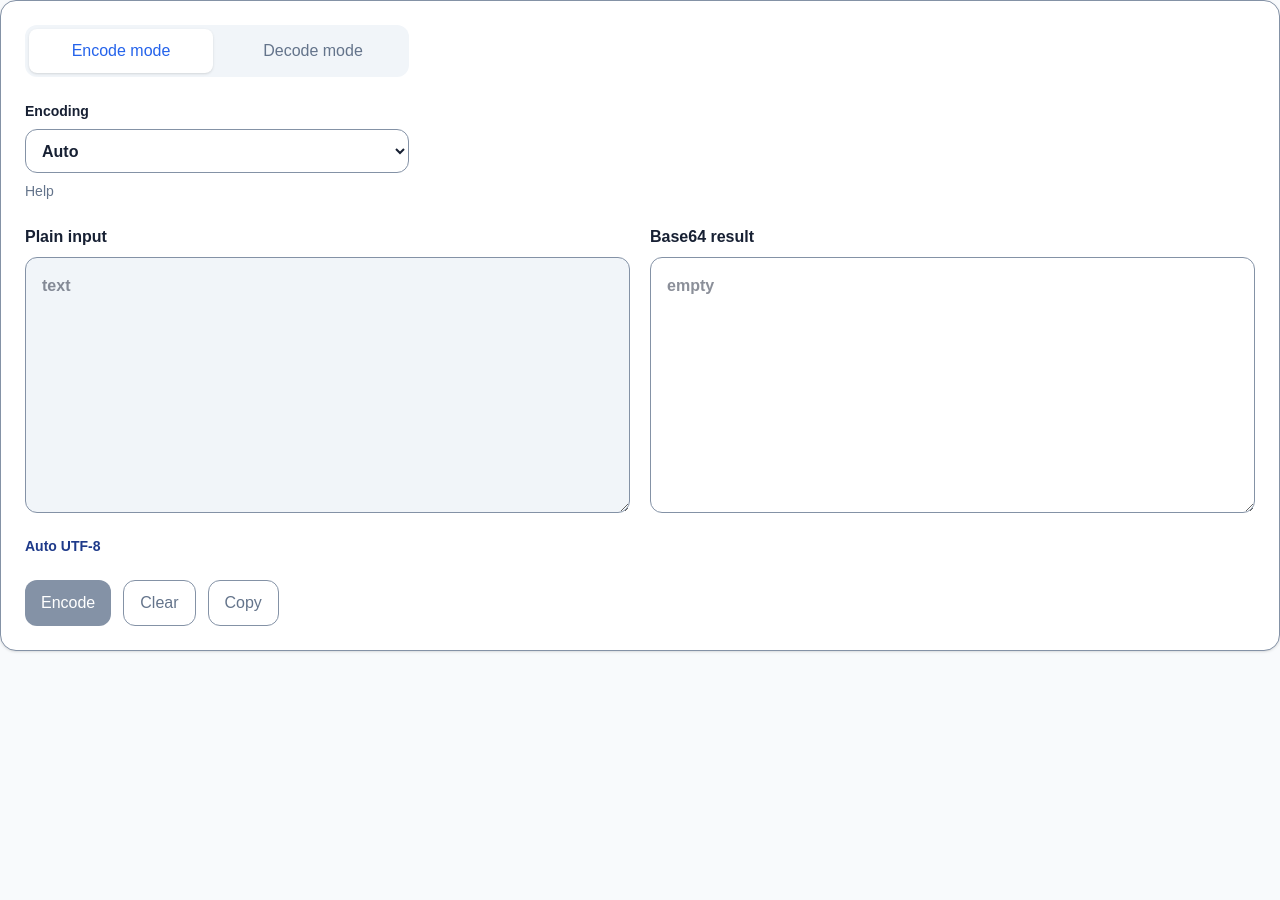
Test: Base64Converter › rejects unrepresentable input and preserves it
This screenshot has width=1280, height=900.
Select "ASCII" in the dropdown labelled "Encoding" at (217,151), box [25,129,409,173]
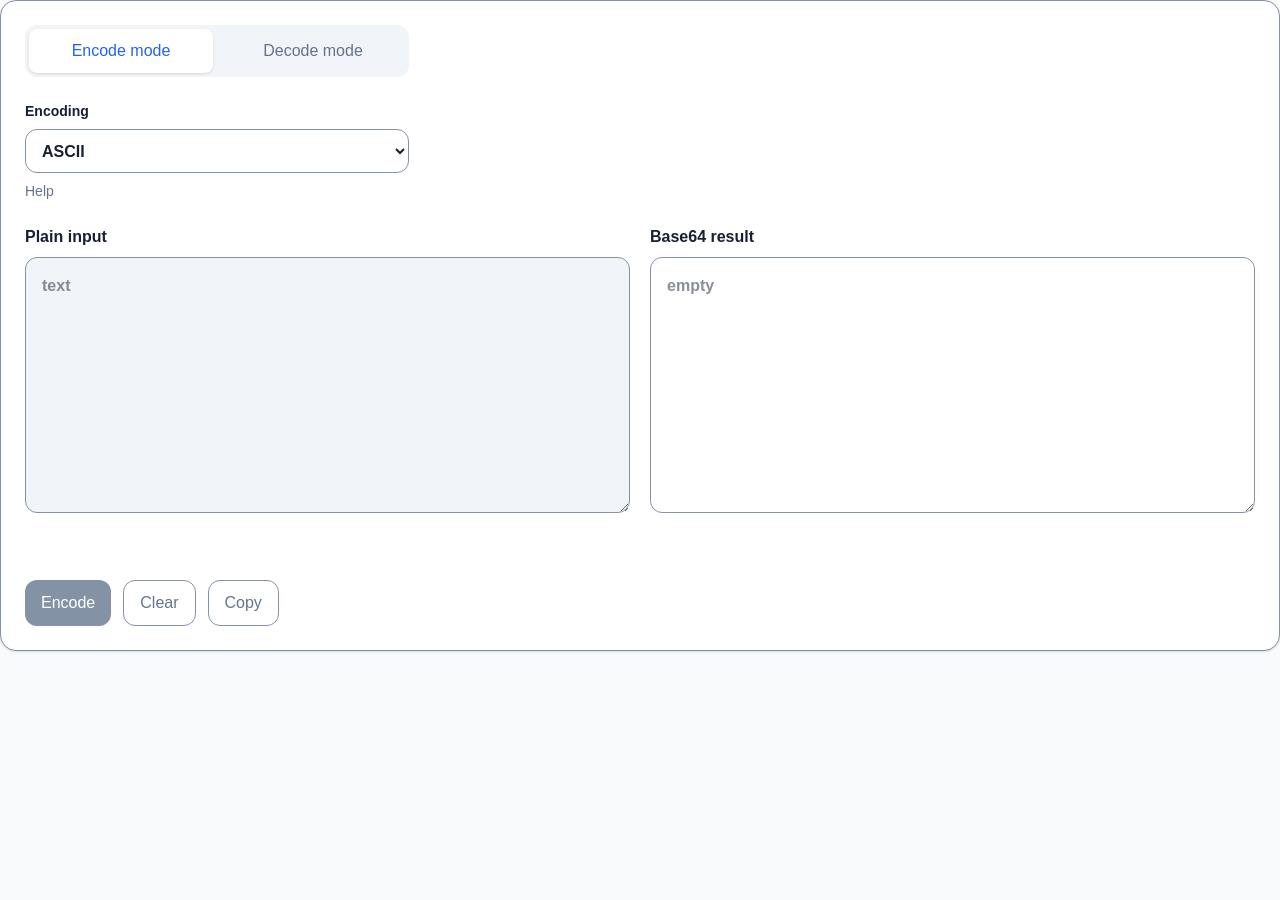
Type "한글" into the text box labelled "Plain input" at (328,385), box [25,257,630,513]
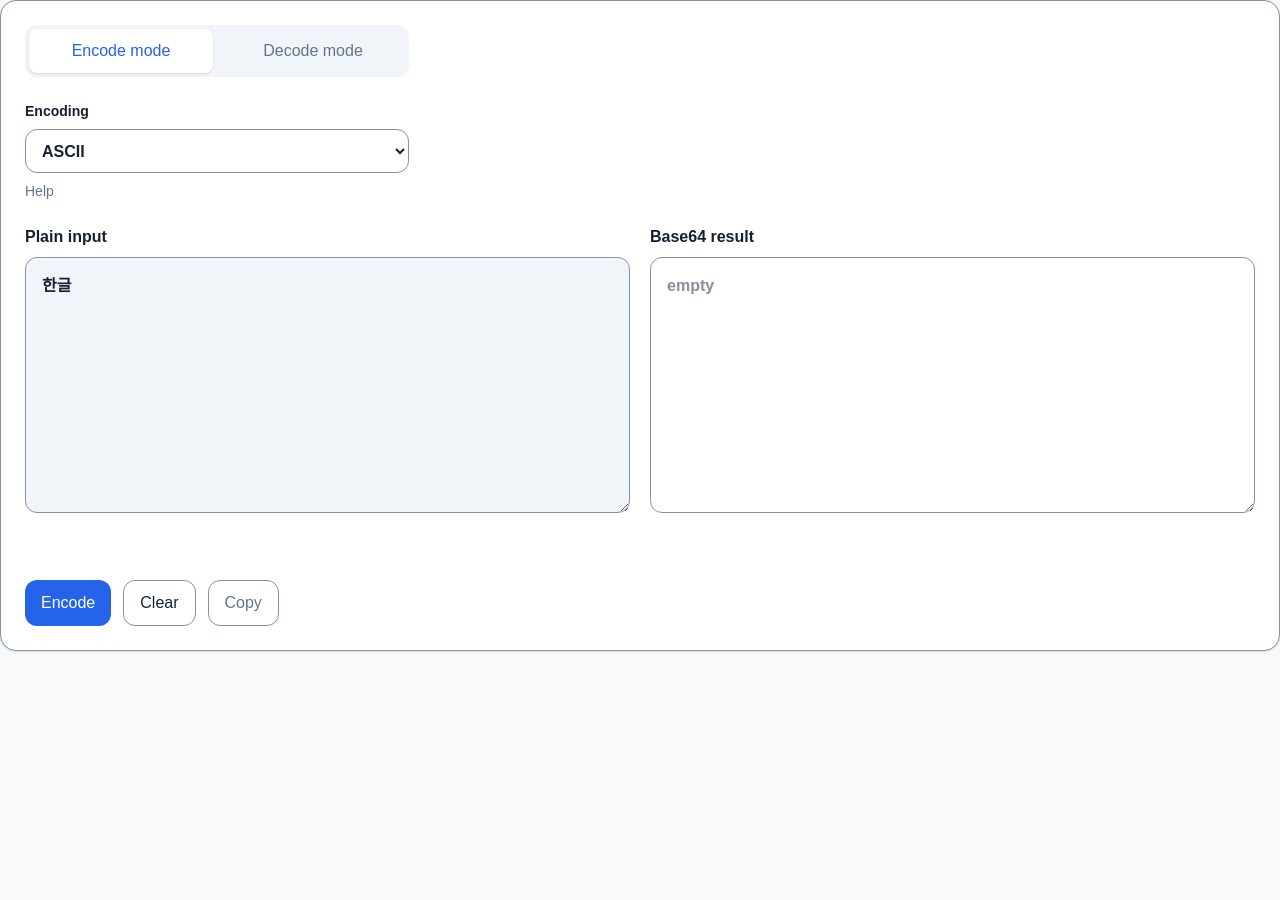
Click the button "Encode" at (68,603), box [25,580,111,626]
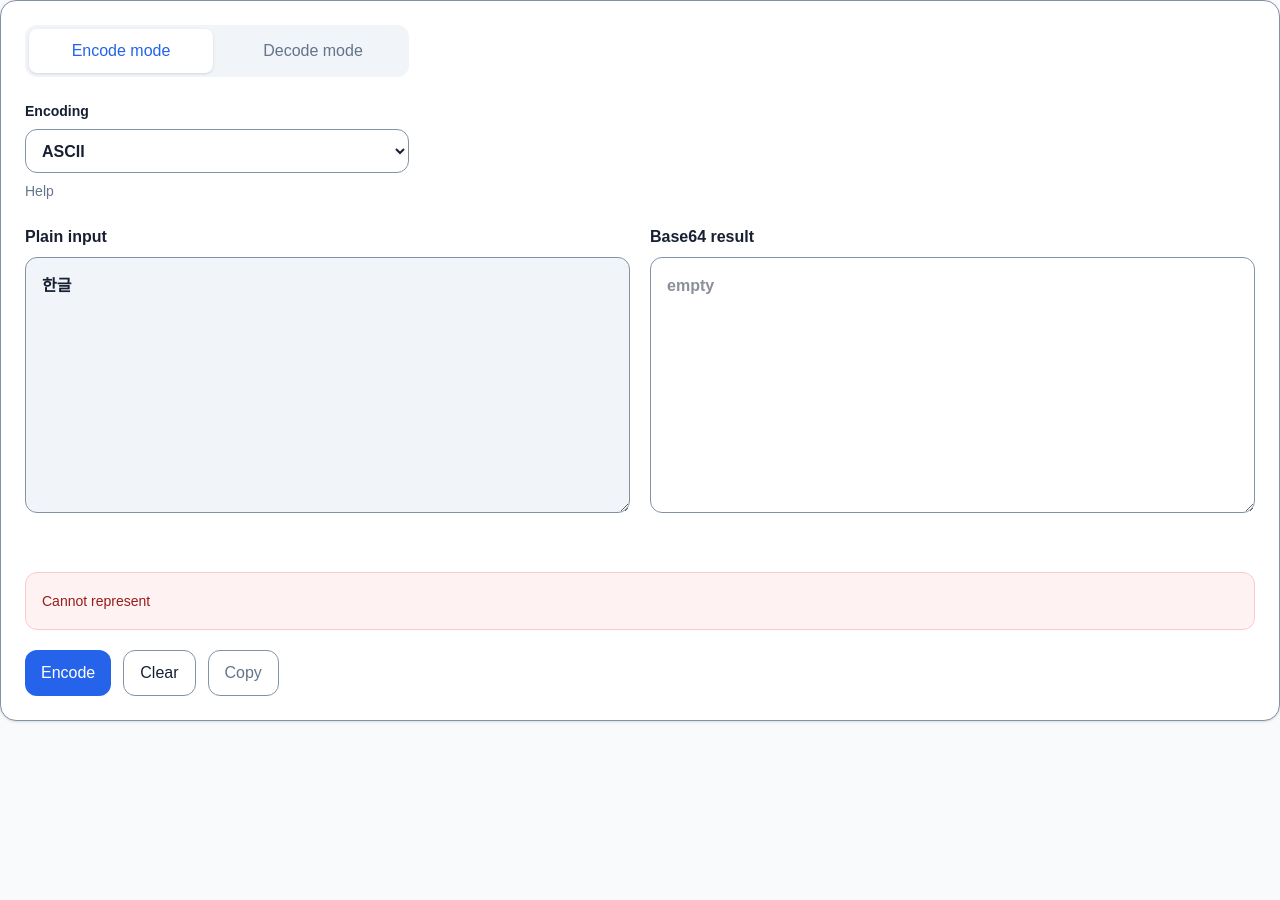
Expected: the message reads "Cannot represent", [42,593,150,609]
